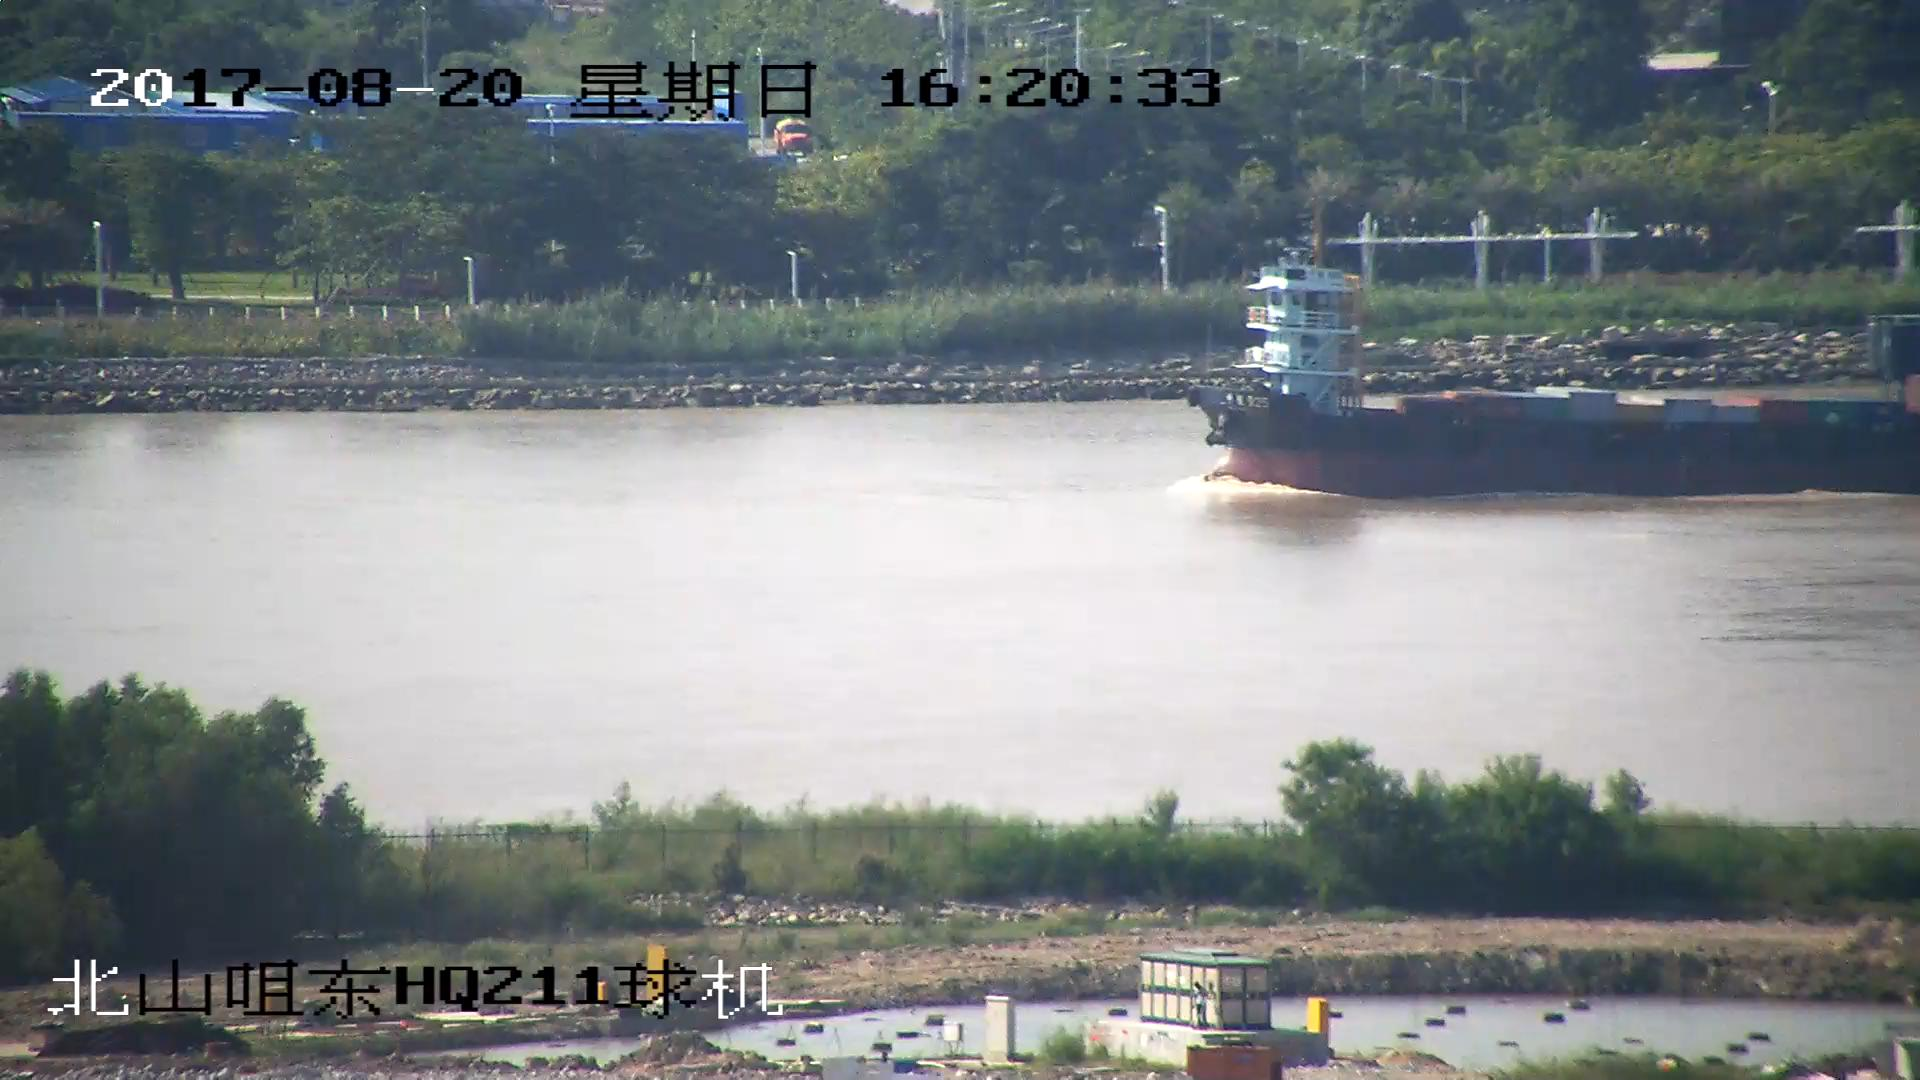container ship: (1186, 244, 1920, 499)
